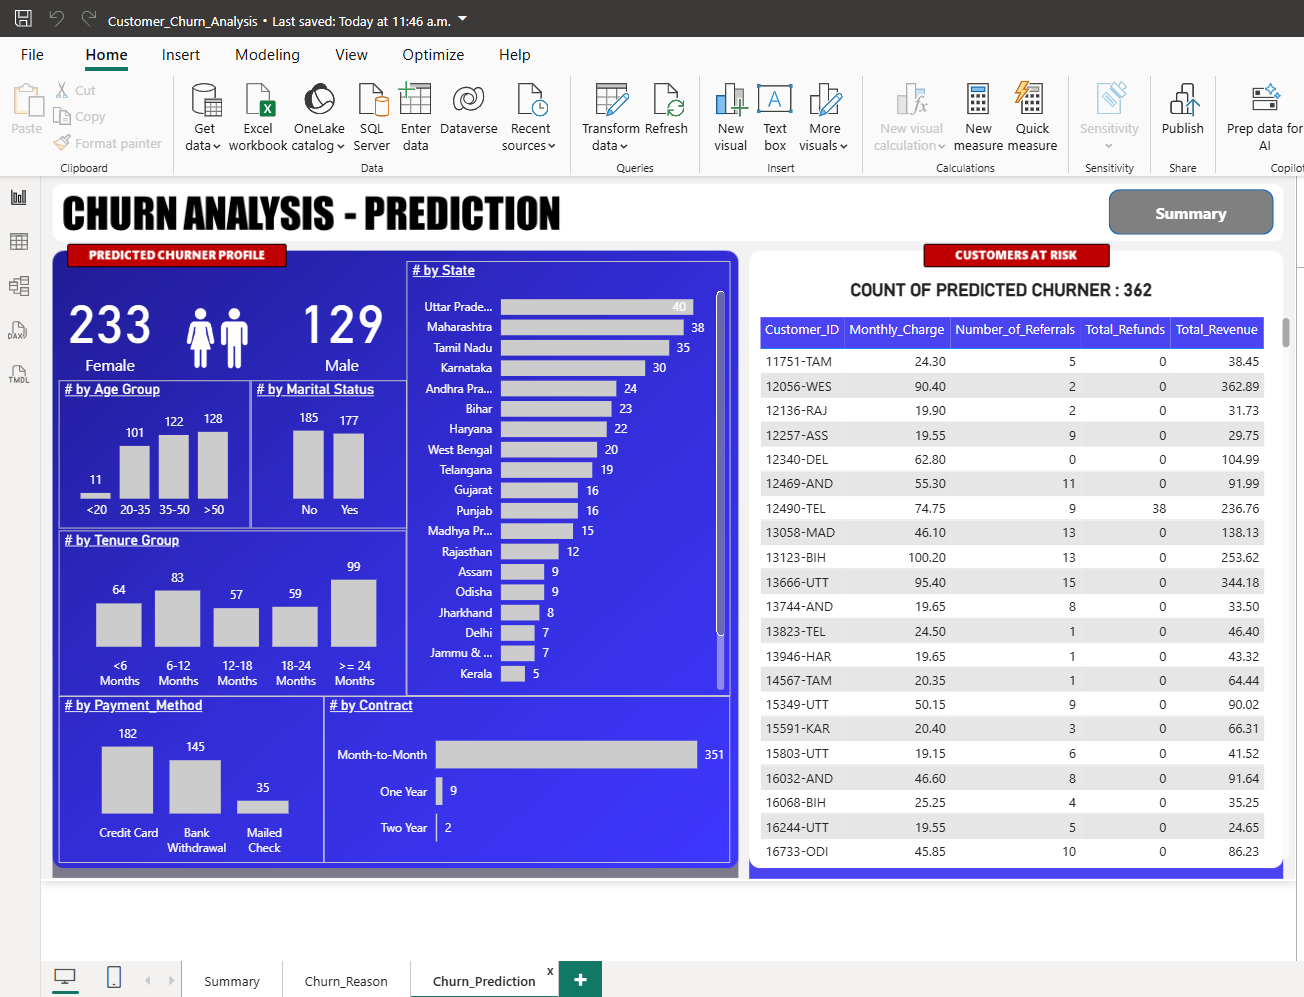

The page's visual inventory and layout, read from the dashboard file:
{"tool":"powerbi","page":{"name":"Churn_Prediction","canvas":[1280,720],"ordinal":2},"visuals":[{"type":"tableEx","fields":{"Values":["predicted_churned_customers.Customer_ID","predicted_churned_customers.Monthly_Charge","predicted_churned_customers.Number_of_Referrals","predicted_churned_customers.Total_Refunds","predicted_churned_customers.Total_Revenue"]},"box":[727.6,138.4,552.2,563],"z":0},{"type":"card","fields":{"Values":["predicted_churned_customers.Title Predicted Churner"]},"box":[811.1,91.8,336.4,46.5],"z":1000},{"type":"card","fields":{"Values":["predicted_churned_customers.Count Predicted Churner"]},"box":[17.9,99,103.8,109.7],"z":2000},{"type":"card","fields":{"Values":["predicted_churned_customers.Count Predicted Churner"]},"box":[226.6,99,159.8,109.7],"z":3000},{"type":"clusteredColumnChart","fields":{"Category":["Maping_AgeGrp.Age Group"],"Y":["CountNonNull(predicted_churned_customers.Customer_ID)"]},"box":[17.9,208.7,195.6,151.5],"z":4000},{"type":"clusteredColumnChart","fields":{"Y":["CountNonNull(predicted_churned_customers.Customer_ID)"],"Category":["predicted_churned_customers.Married"]},"box":[213.5,208.7,159.8,151.5],"z":5000},{"type":"clusteredColumnChart","fields":{"Y":["CountNonNull(predicted_churned_customers.Customer_ID)"],"Category":["Mapping_TenureGrp.Tenure Group"]},"box":[17.9,361.4,355.4,169.4],"z":6000},{"type":"clusteredColumnChart","fields":{"Y":["CountNonNull(predicted_churned_customers.Customer_ID)"],"Category":["predicted_churned_customers.Payment_Method"]},"box":[17.9,530.8,270.8,170.6],"z":7000},{"type":"clusteredBarChart","fields":{"Y":["CountNonNull(predicted_churned_customers.Customer_ID)"],"Category":["predicted_churned_customers.Contract"]},"box":[288.6,530.8,415.1,170.6],"z":8000},{"type":"clusteredBarChart","fields":{"Y":["CountNonNull(predicted_churned_customers.Customer_ID)"],"Category":["predicted_churned_customers.State"]},"box":[373.3,87.1,330.4,443.7],"z":9000},{"type":"image","box":[121.7,120.5,115.7,88.3],"z":10000},{"type":"shape","title":"summary","box":[1089,13.1,168.2,46.5],"z":11000}]}

Visuals, with their boxes on the page's 1280x720 design canvas (x1, y1, x2, y2). These are canvas units, not pixel positions in the 1304x997 screenshot, which may show the page scaled, cropped or inside an application window:
tableEx - predicted_churned_customers.Customer_ID x predicted_churned_customers.Monthly_Charge: 728 138 1280 701
card - predicted_churned_customers.Title Predicted Churner: 811 92 1148 138
card - predicted_churned_customers.Count Predicted Churner: 18 99 122 209
card - predicted_churned_customers.Count Predicted Churner: 227 99 386 209
clusteredColumnChart - Maping_AgeGrp.Age Group x CountNonNull(predicted_churned_customers.Customer_ID): 18 209 214 360
clusteredColumnChart - CountNonNull(predicted_churned_customers.Customer_ID) x predicted_churned_customers.Married: 214 209 373 360
clusteredColumnChart - CountNonNull(predicted_churned_customers.Customer_ID) x Mapping_TenureGrp.Tenure Group: 18 361 373 531
clusteredColumnChart - CountNonNull(predicted_churned_customers.Customer_ID) x predicted_churned_customers.Payment_Method: 18 531 289 701
clusteredBarChart - CountNonNull(predicted_churned_customers.Customer_ID) x predicted_churned_customers.Contract: 289 531 704 701
clusteredBarChart - CountNonNull(predicted_churned_customers.Customer_ID) x predicted_churned_customers.State: 373 87 704 531
image: 122 120 237 209
"summary" shape: 1089 13 1257 60
